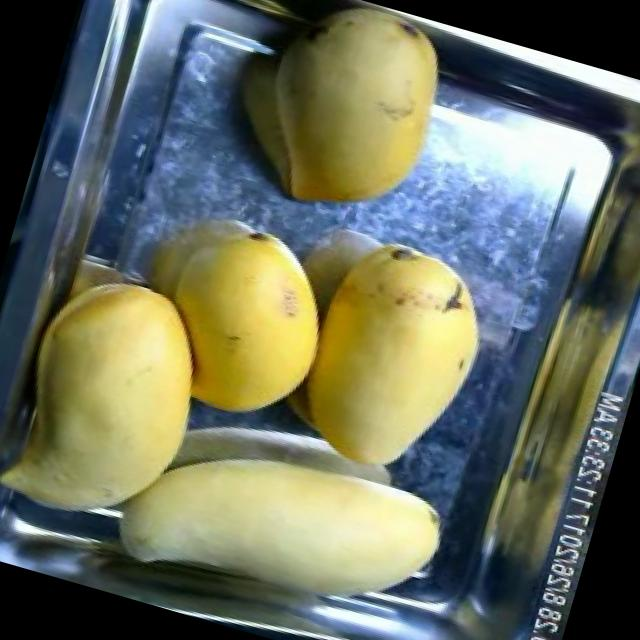fruit: (90, 393, 478, 640), (0, 248, 240, 553), (266, 213, 509, 494), (218, 0, 477, 251), (133, 198, 360, 444)
